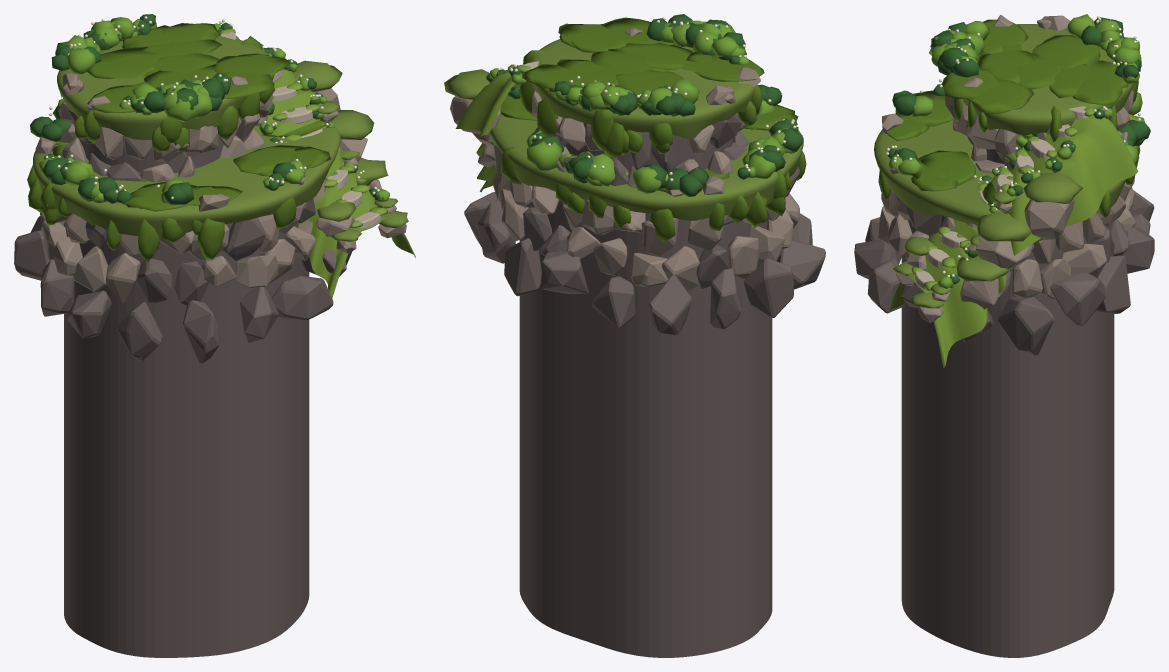
The model's file is promontory5.glb.
3 renders of one model, left to right at view 1: azimuth 30°, elevation 25°; view 2: azimuth 150°, elevation 25°; view 3: azimuth 270°, elevation 25°, orthographic. The views are drawn at different scales.
Visible parts, largest first — view 1: stone_shadow, moss_drape, moss_top, stone, bush, bush_light, grass, slab_stone, grass_tuft, flower; view 2: stone_shadow, moss_drape, stone, moss_top, bush_light, bush, grass, flower; view 3: stone_shadow, stone, moss_drape, moss_top, grass, bush_light, bush, slab_stone, grass_tuft, flower.
Boxes of the visible parts, <box> form: stone_shadow: <box>14,109,352,657</box>; moss_drape: <box>27,23,336,262</box>; moss_top: <box>33,35,408,241</box>; stone: <box>35,73,406,302</box>; bush: <box>30,14,383,204</box>; bush_light: <box>39,17,389,203</box>; grass: <box>236,36,415,298</box>; slab_stone: <box>220,32,381,230</box>; grass_tuft: <box>219,28,387,228</box>; flower: <box>45,16,379,199</box>; stone_shadow: <box>464,114,825,657</box>; moss_drape: <box>501,17,806,242</box>; stone: <box>450,27,799,291</box>; moss_top: <box>444,39,803,220</box>; bush_light: <box>488,20,798,193</box>; bush: <box>486,14,803,197</box>; grass: <box>455,71,520,192</box>; flower: <box>497,17,796,181</box>; stone_shadow: <box>854,136,1154,657</box>; stone: <box>878,15,1139,322</box>; moss_drape: <box>878,19,1140,217</box>; moss_top: <box>874,24,1138,308</box>; grass: <box>889,115,1138,368</box>; bush_light: <box>888,14,1144,288</box>; bush: <box>887,17,1150,284</box>; slab_stone: <box>915,106,1088,291</box>; grass_tuft: <box>911,107,1094,290</box>; flower: <box>886,16,1140,277</box>.
Bounding box in the file's own units: 27.89 × 43.49 × 21.41.
